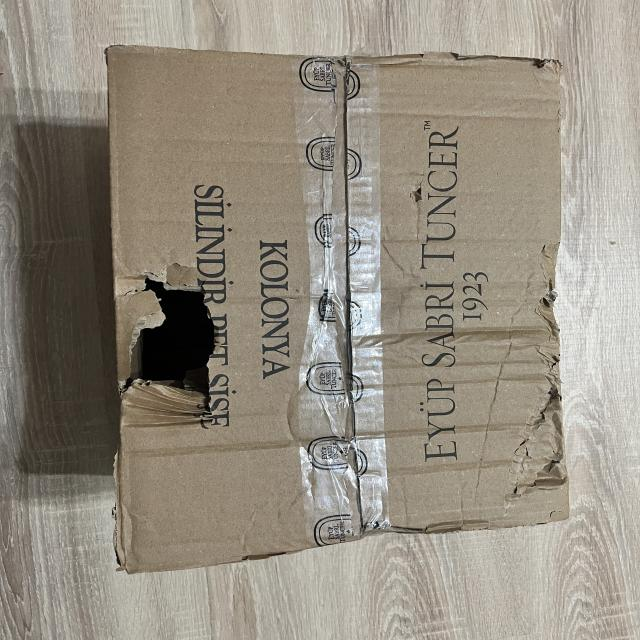damaged: (95, 38, 586, 575), (108, 255, 237, 442), (499, 243, 574, 500), (243, 508, 573, 554)
